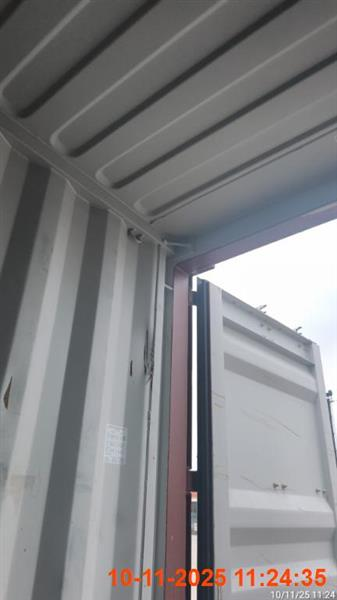broken: (1, 2, 336, 597)
